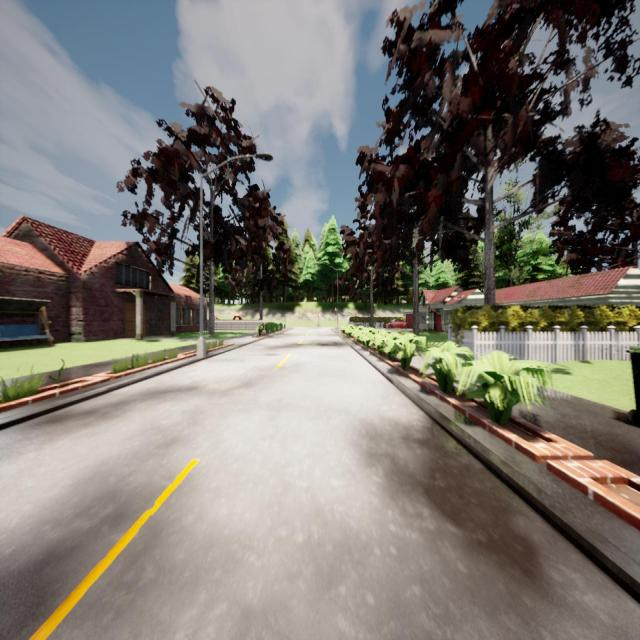Vehicle: (384, 318, 408, 330)
traffic_light: (334, 309, 336, 315)
